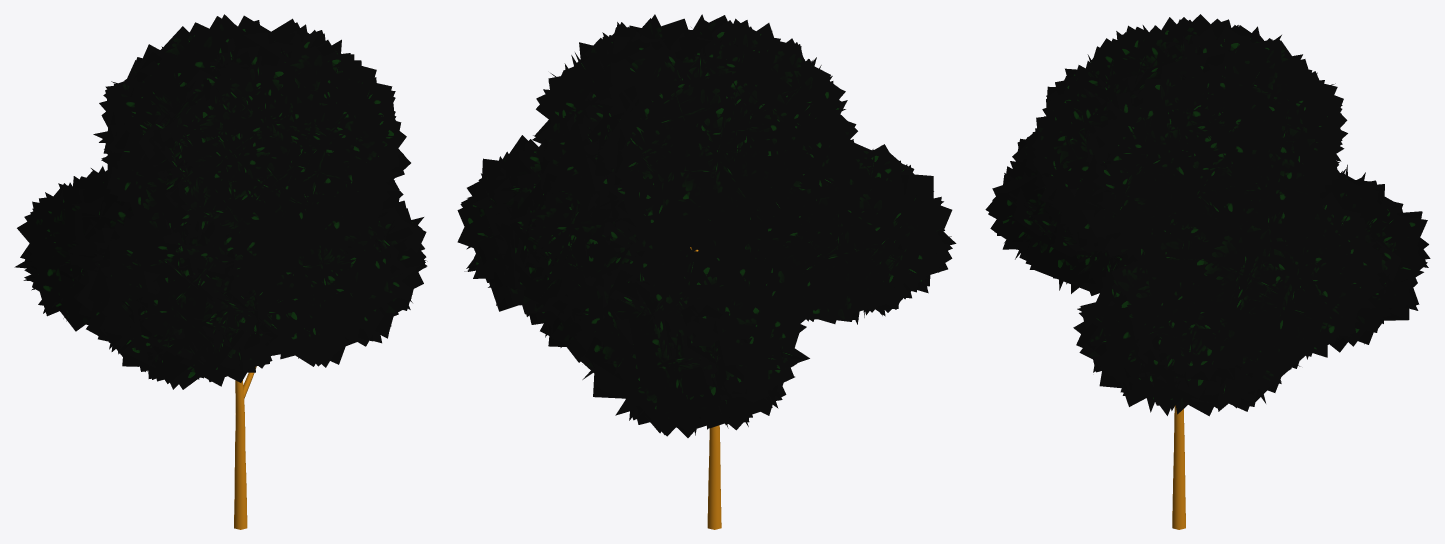
The model's file is tree.gltf.
3 renders of one model, left to right at view 1: azimuth 30°, elevation 25°; view 2: azimuth 150°, elevation 25°; view 3: azimuth 270°, elevation 25°, orthographic. The views are drawn at different scales.
Parts seen in each view (by area): view 1: leaves, trunk; view 2: leaves, trunk; view 3: leaves, trunk.
Part boxes in pixels (x1,y1,x2,y2): leaves: [14, 14, 427, 389]; trunk: [234, 366, 256, 529]; leaves: [457, 14, 956, 437]; trunk: [690, 247, 721, 529]; leaves: [985, 14, 1430, 416]; trunk: [1172, 405, 1185, 529].
Bounding box in the file's own units: 5.66 × 6.9 × 5.6.
2 materials, 1 textured.
